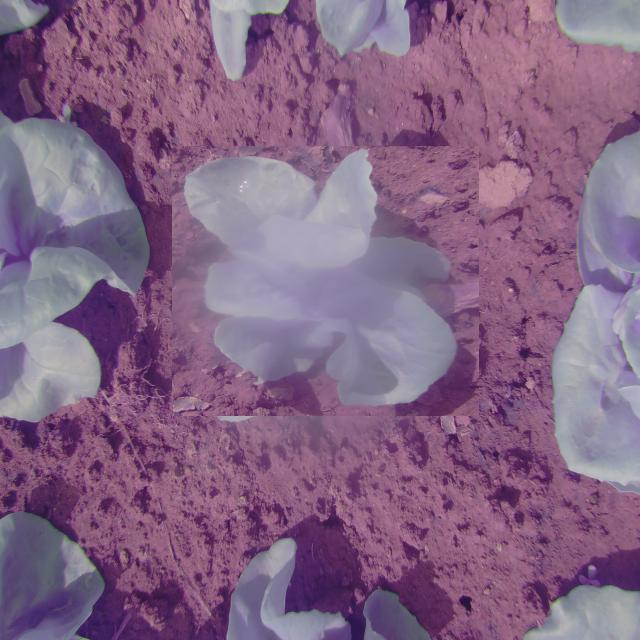vege: (181, 136, 470, 425)
